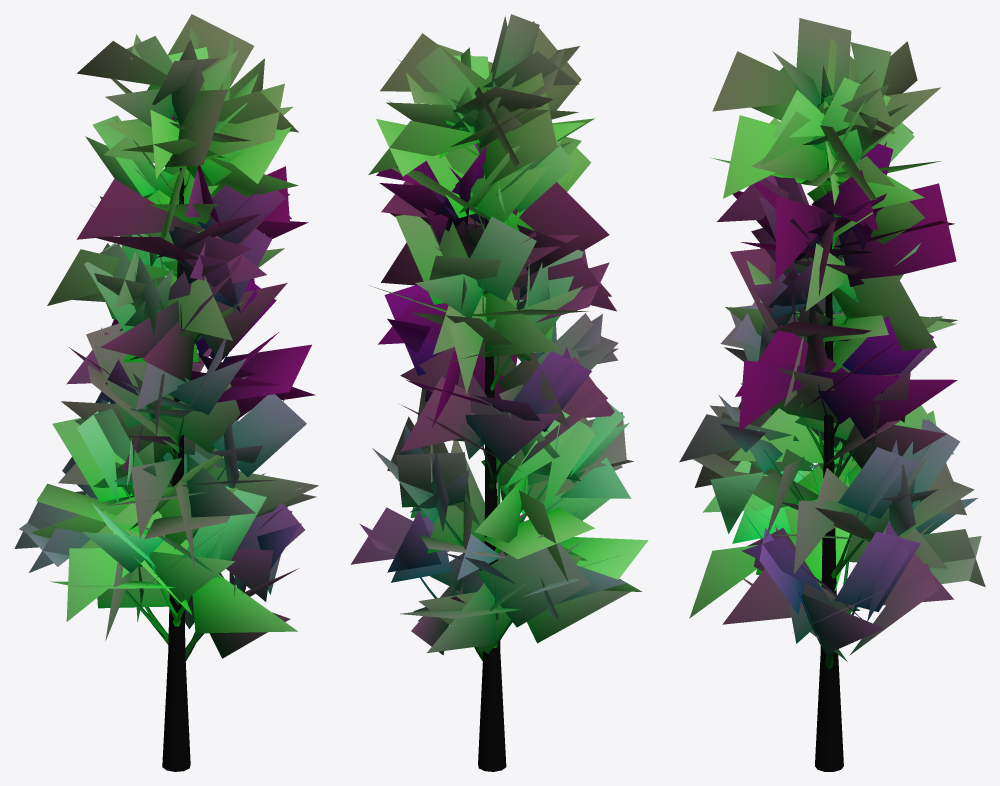
The model's file is tree3_poplar.glb.
3 renders of one model, left to right at view 1: azimuth 30°, elevation 25°; view 2: azimuth 150°, elevation 25°; view 3: azimuth 270°, elevation 25°, orthographic.
Parts seen in each view (by area): view 1: tree3_poplar; view 2: tree3_poplar; view 3: tree3_poplar.
Part boxes in pixels (box(x1,y1,x2,y2)): tree3_poplar: box(14, 14, 318, 771); tree3_poplar: box(351, 14, 648, 771); tree3_poplar: box(679, 18, 985, 771).
Bounding box in the file's own units: 3.6 × 9.5 × 3.6.
